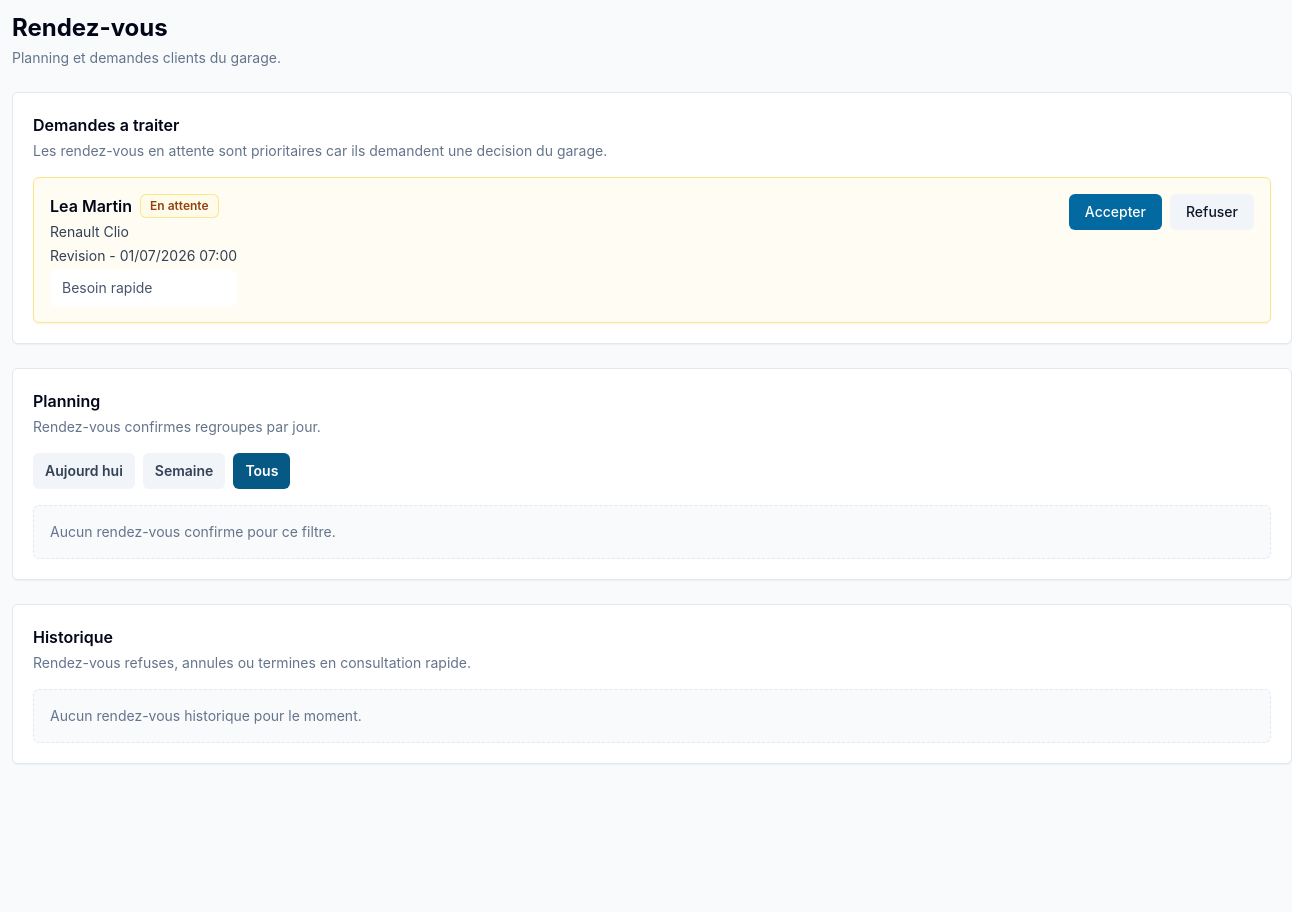
Test: AppointmentsPage › affiche une erreur si acceptAppointment echoue
Click the button "Accepter": (1115, 212) [1069,194,1162,230]
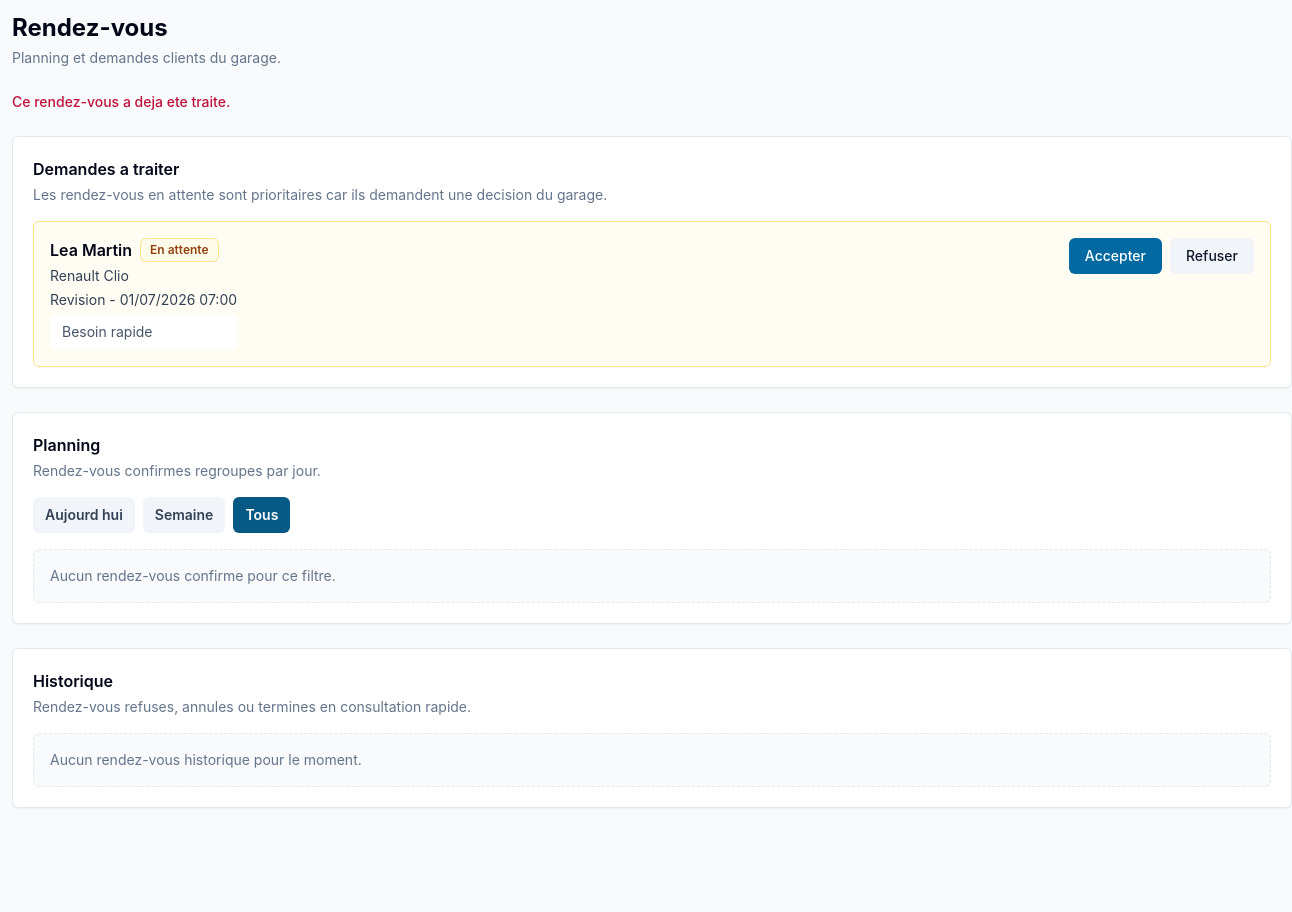
Check: the text "Ce rendez-vous a deja ete traite." is shown, box [12,93,230,110]
